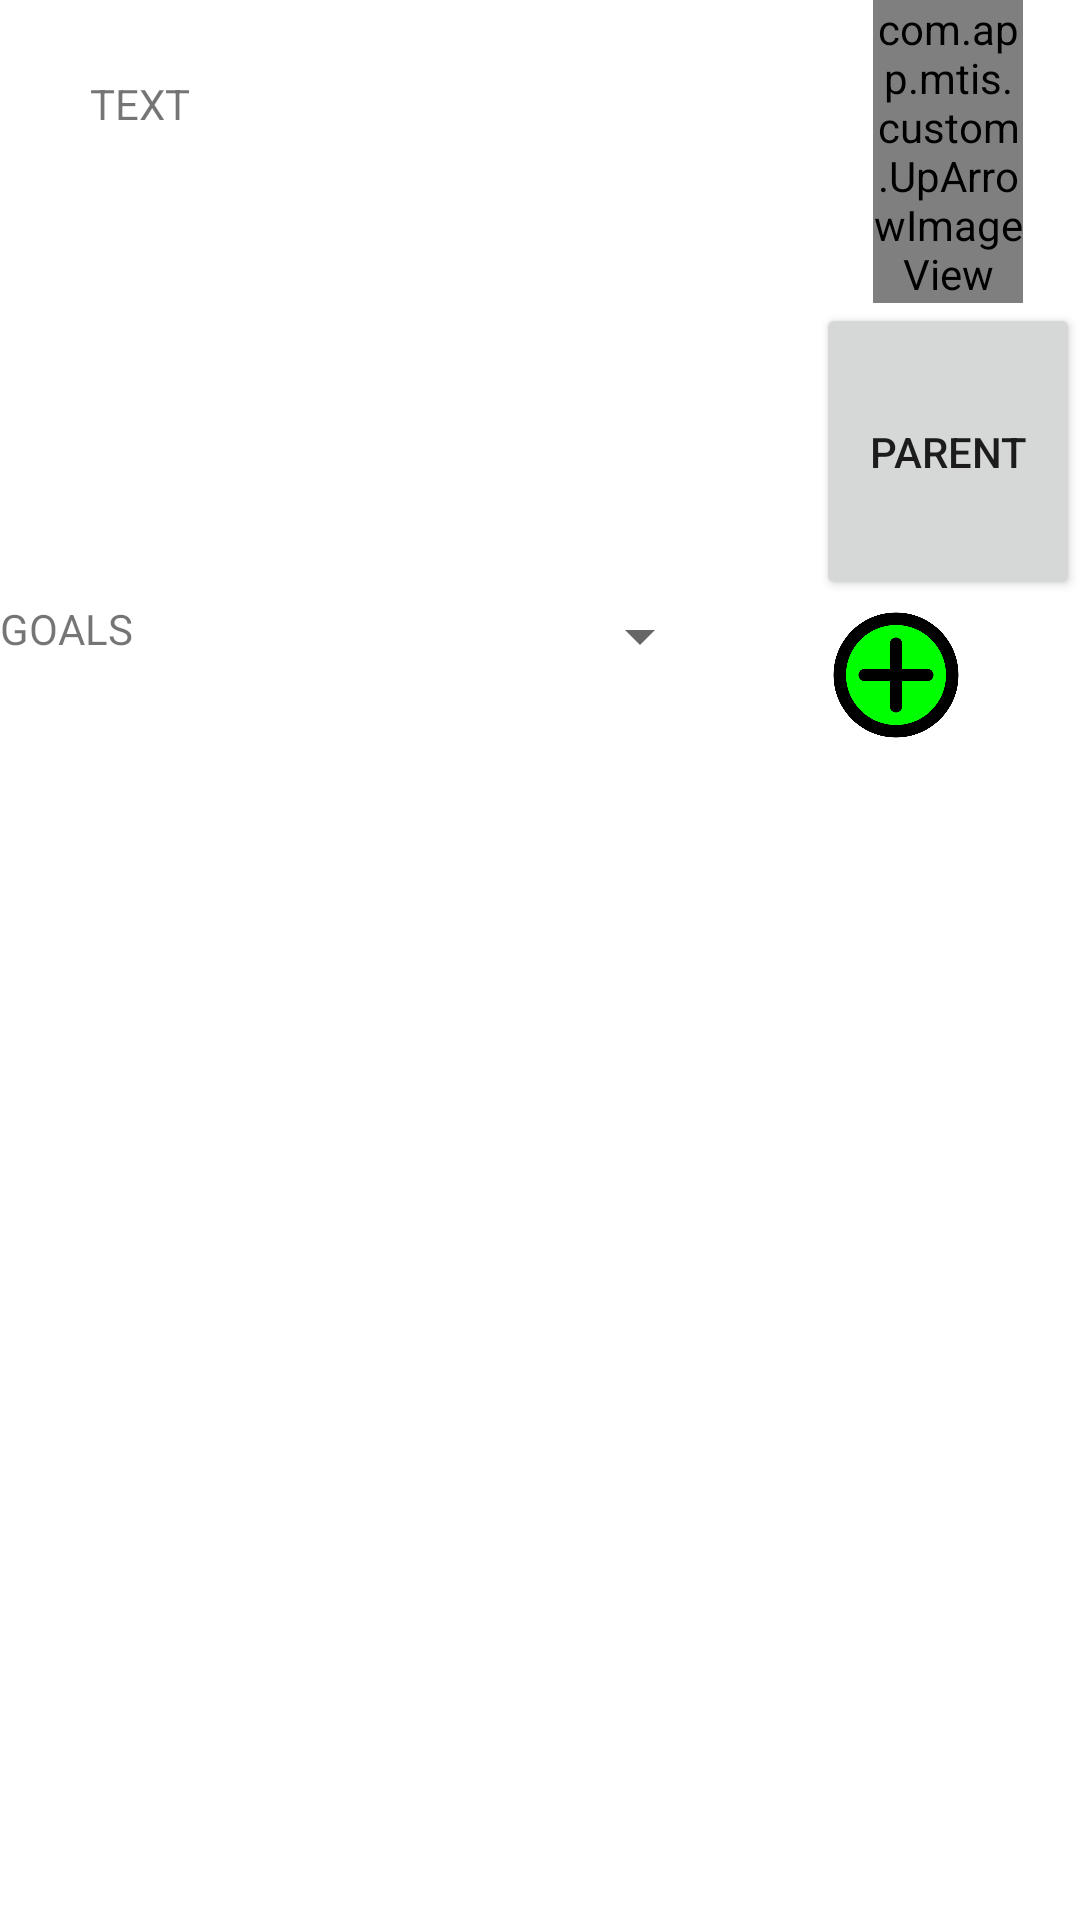

Screen size 1080w x 1920h. Icon name, then its center in pixels as (x=x, y=y):
add: (x=896, y=675)
